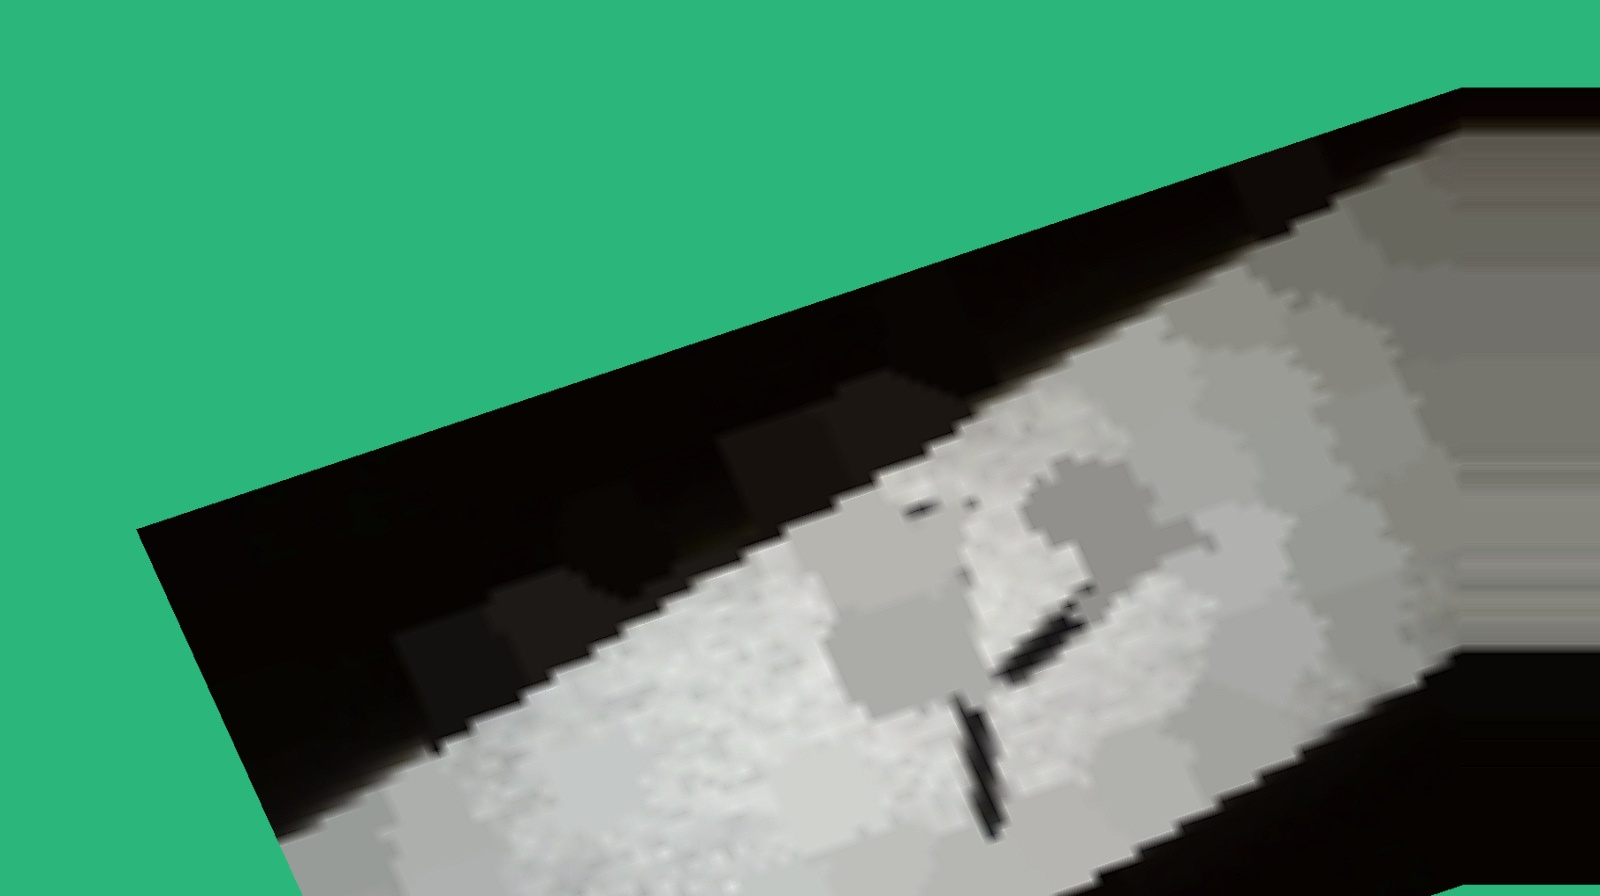S001: (914, 469, 1255, 705)
S002: (836, 482, 1111, 837)
